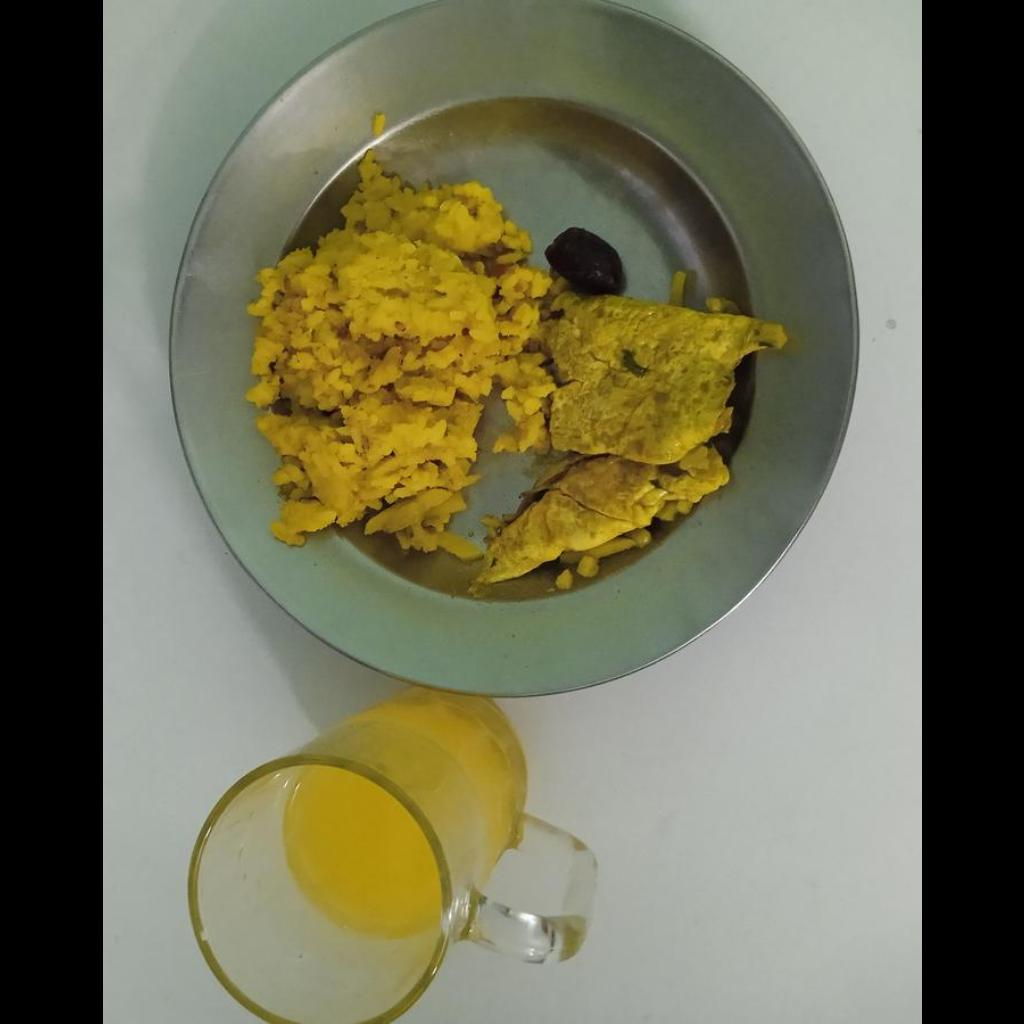dates: (543, 228, 624, 292)
egg-poached: (474, 288, 785, 589)
juice: (286, 773, 436, 938)
khichuri: (242, 160, 549, 550)
